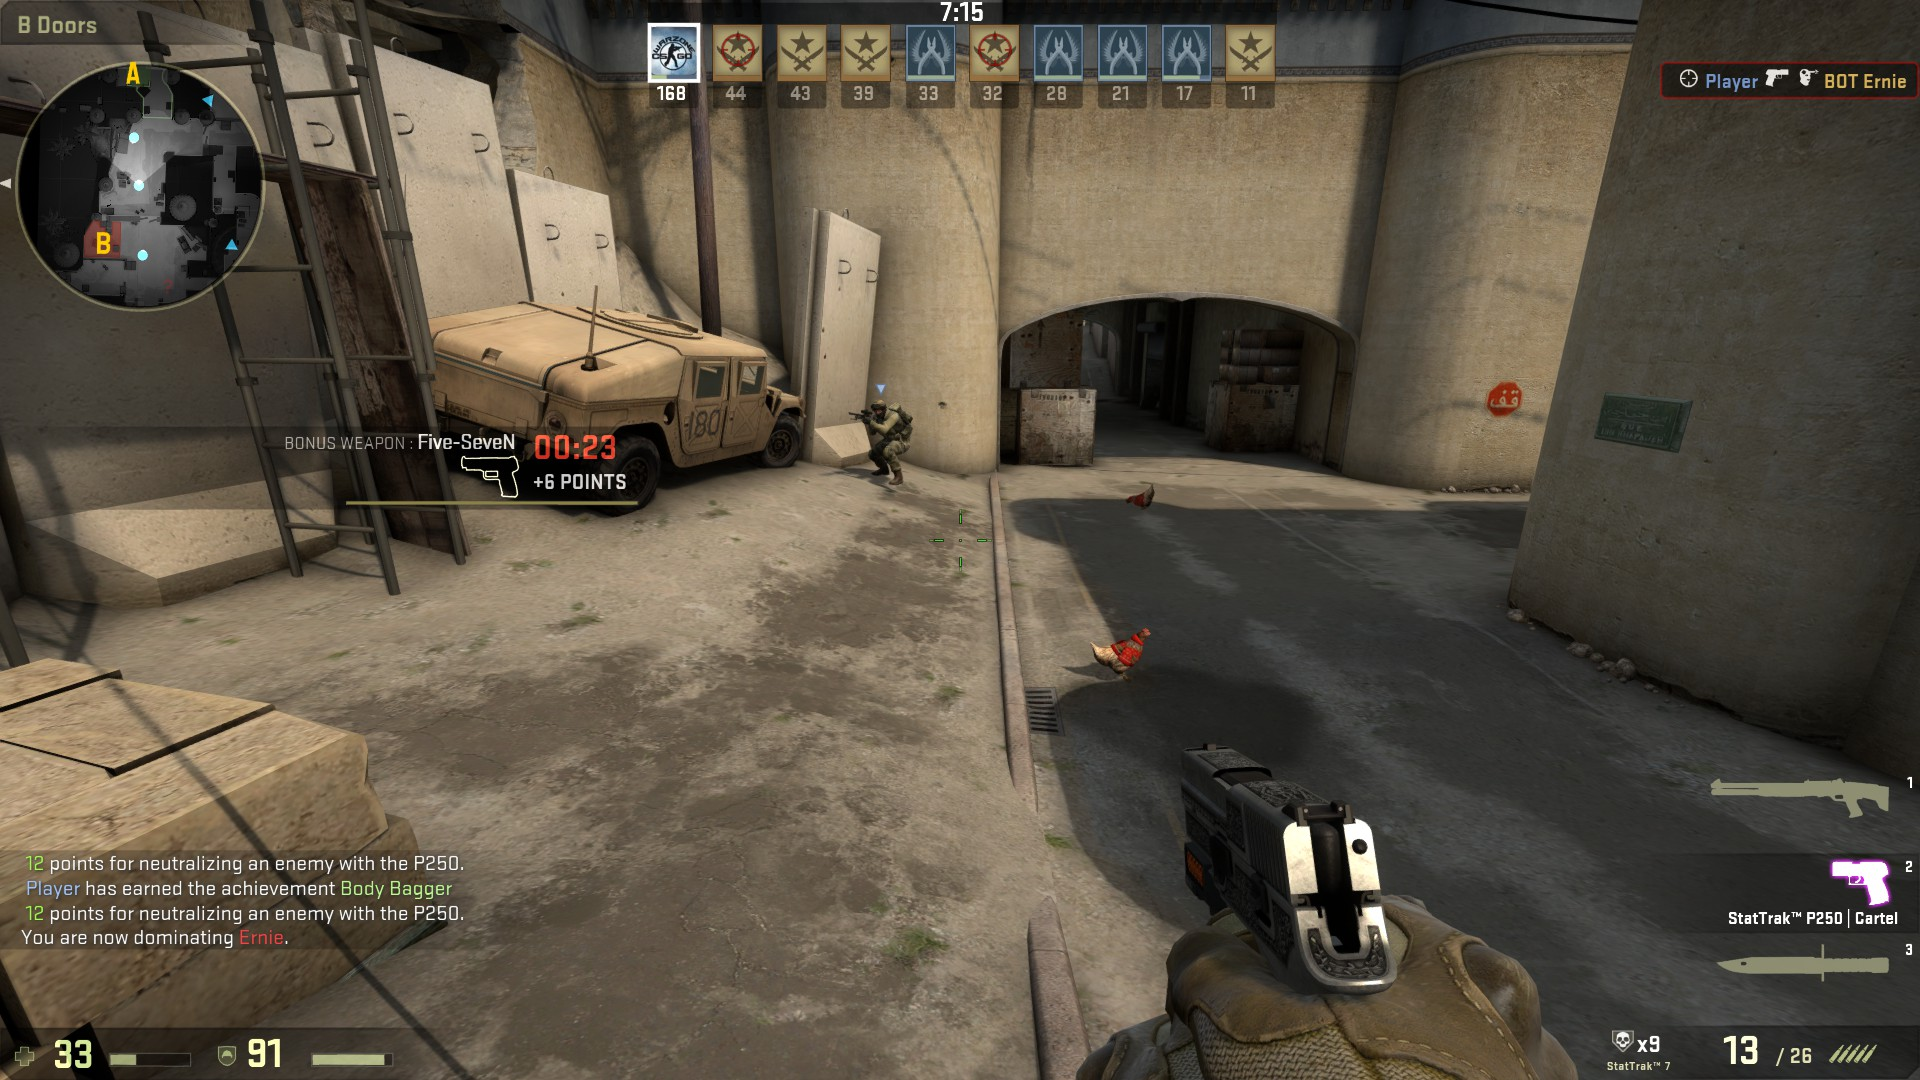c: (862, 397, 913, 487)
ch: (869, 400, 890, 421)
